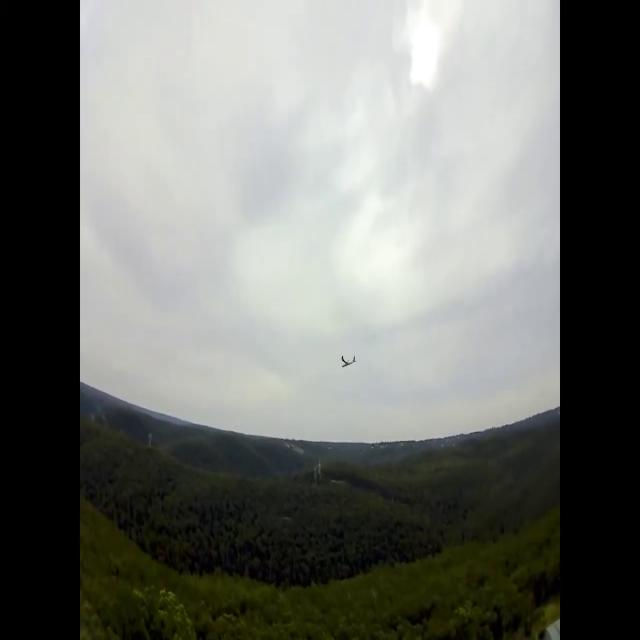iha: (340, 354, 356, 369)
